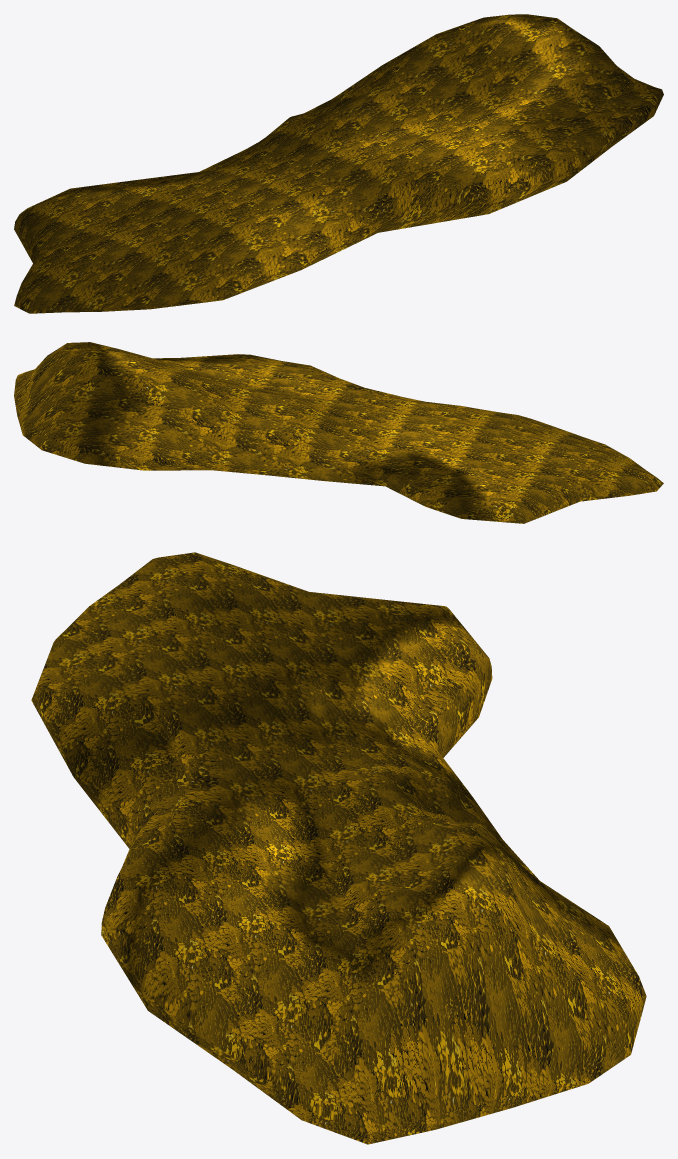
The model's file is CH09_SMAUG_PLAYSURFACE_LAIR81.fbx.
3 views of the same model, one above another, from view 1: azimuth 30°, elevation 25°; view 2: azimuth 150°, elevation 25°; view 3: azimuth 270°, elevation 25° (orthographic). The views are drawn at different scales.
Visible parts, largest first — view 1: CH09_SMAUG_PLAYSURFACE_LAIR81; view 2: CH09_SMAUG_PLAYSURFACE_LAIR81; view 3: CH09_SMAUG_PLAYSURFACE_LAIR81.
Part boxes in pixels (x1=…): CH09_SMAUG_PLAYSURFACE_LAIR81: x1=14, y1=14, x2=663, y2=313; CH09_SMAUG_PLAYSURFACE_LAIR81: x1=14, y1=342, x2=663, y2=523; CH09_SMAUG_PLAYSURFACE_LAIR81: x1=31, y1=552, x2=646, y2=1144.
Size of the model in its own units: 390472 by 47581 by 174776.
1 material, 1 textured.
